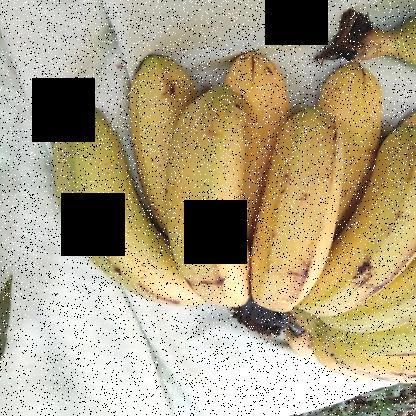ripe: (244, 106, 358, 323), (160, 87, 266, 309), (306, 122, 415, 316)
